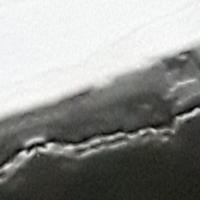crack: (1, 111, 199, 199)
